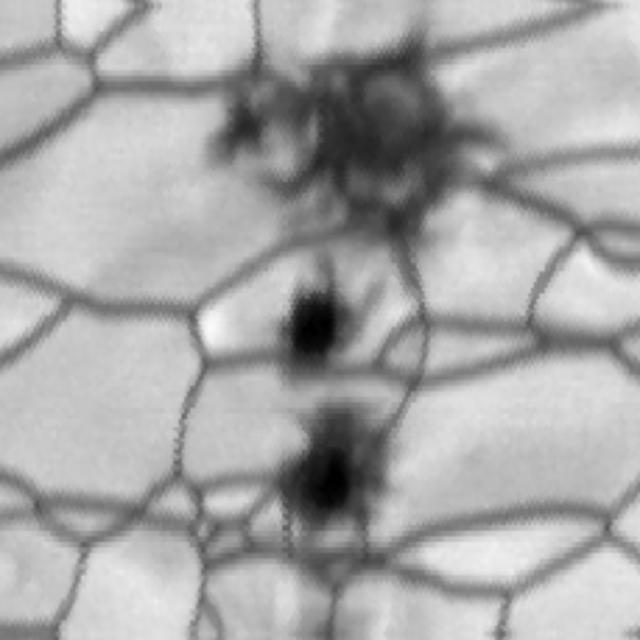good_void: (195, 35, 504, 248), (273, 404, 401, 537), (265, 262, 362, 366)
